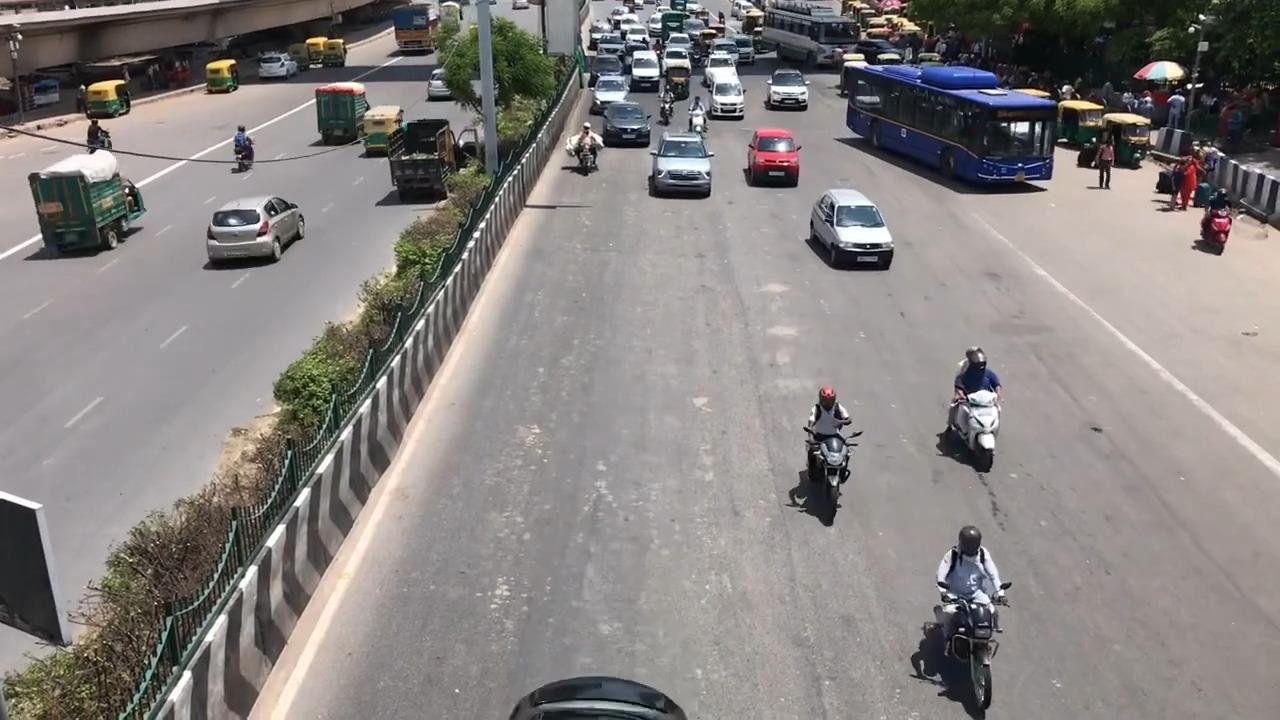Auto: (1101, 112, 1151, 166)
Bike: (930, 518, 1016, 711), (798, 377, 861, 530), (947, 341, 1002, 473), (1200, 180, 1236, 253), (575, 121, 601, 176), (233, 123, 255, 172), (87, 111, 113, 148)
Bus: (843, 60, 1058, 186), (760, 0, 860, 67)
Truck: (27, 148, 146, 253), (386, 117, 457, 202), (314, 81, 369, 145)
